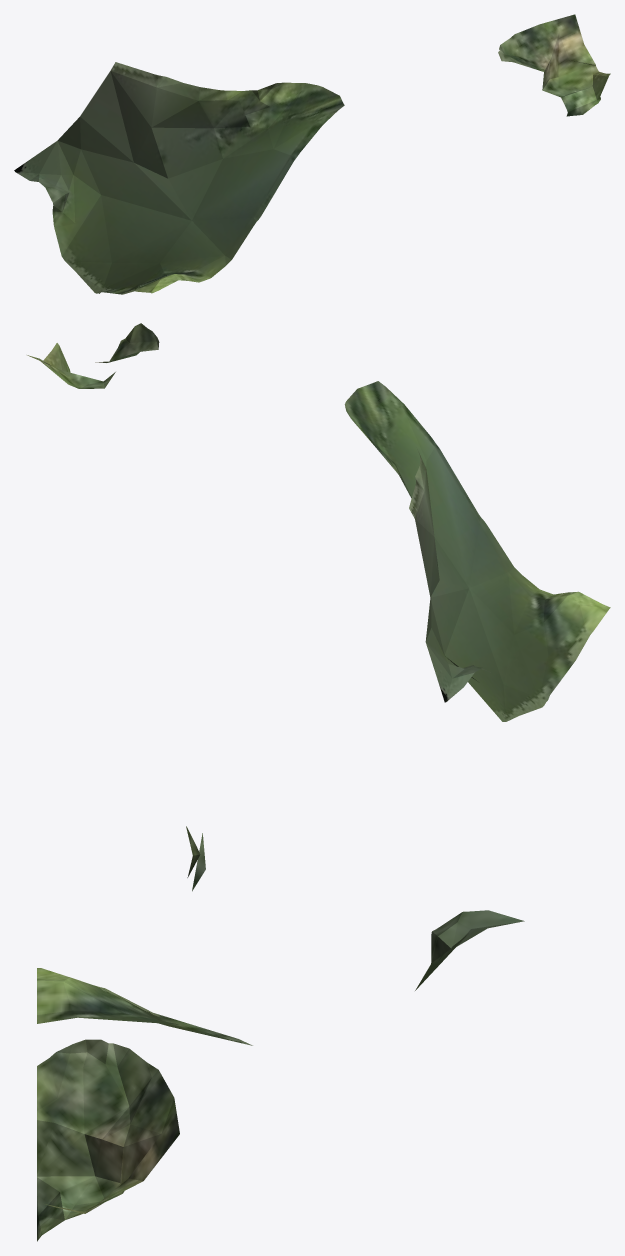
3 renders of one model, top to bottom at view 1: azimuth 30°, elevation 25°; view 2: azimuth 150°, elevation 25°; view 3: azimuth 270°, elevation 25°, orthographic. The views are drawn at different scales.
Bounding box in the file's own units: 52.22 × 19.79 × 27.14.
Materials: 1 (1 with a texture image).
